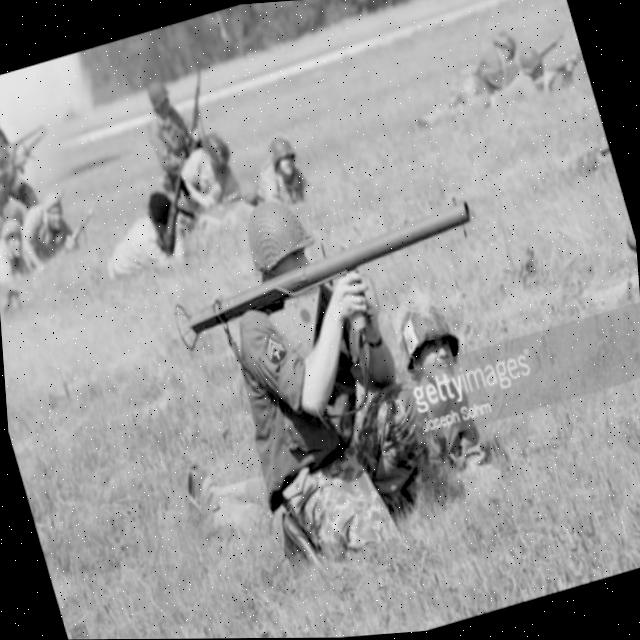rocket: (156, 190, 492, 357)
